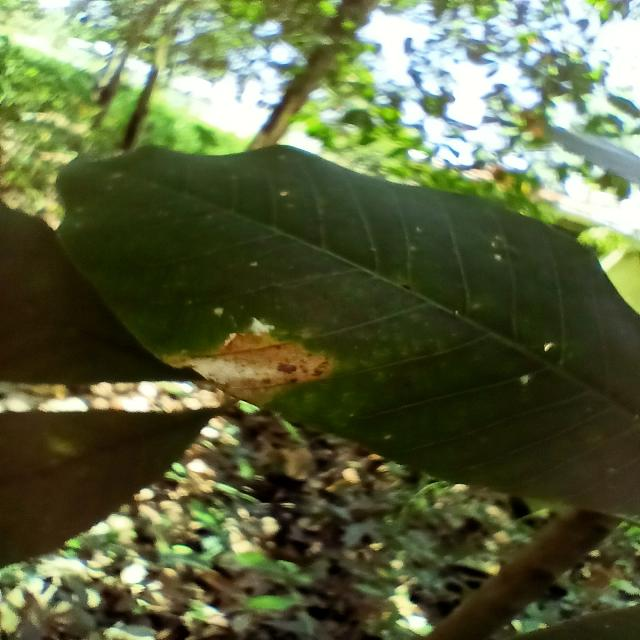Leaf-Blight: (160, 319, 333, 405)
